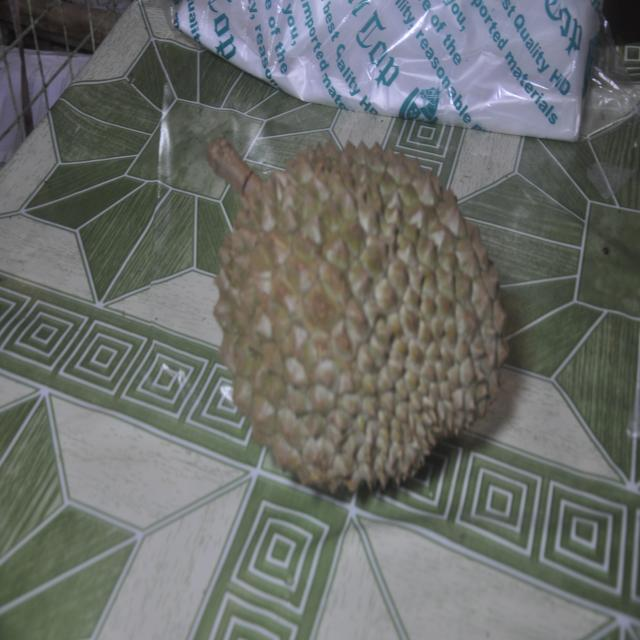mature: (207, 140, 507, 499)
